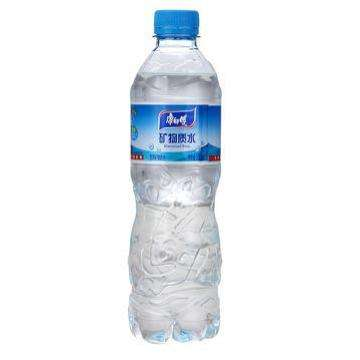amwater: (113, 2, 234, 351)
